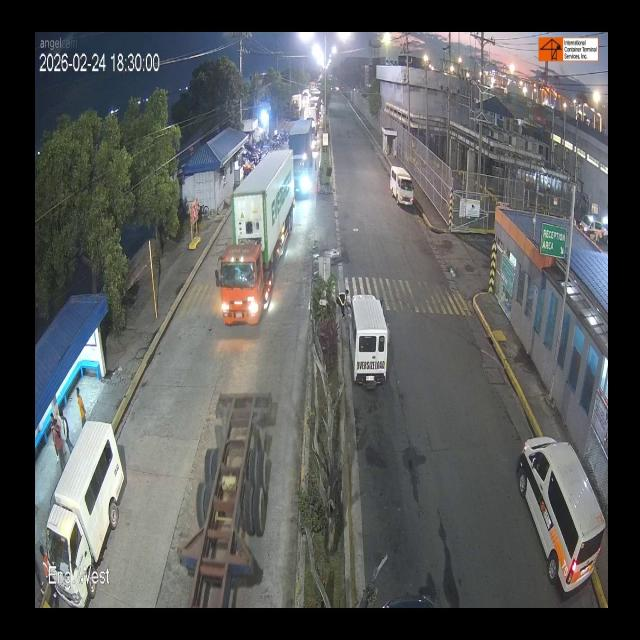car: (515, 431, 603, 589), (54, 433, 130, 565), (346, 292, 394, 410), (387, 160, 415, 206)
truck: (213, 143, 299, 343), (286, 113, 316, 203), (288, 96, 301, 128)
